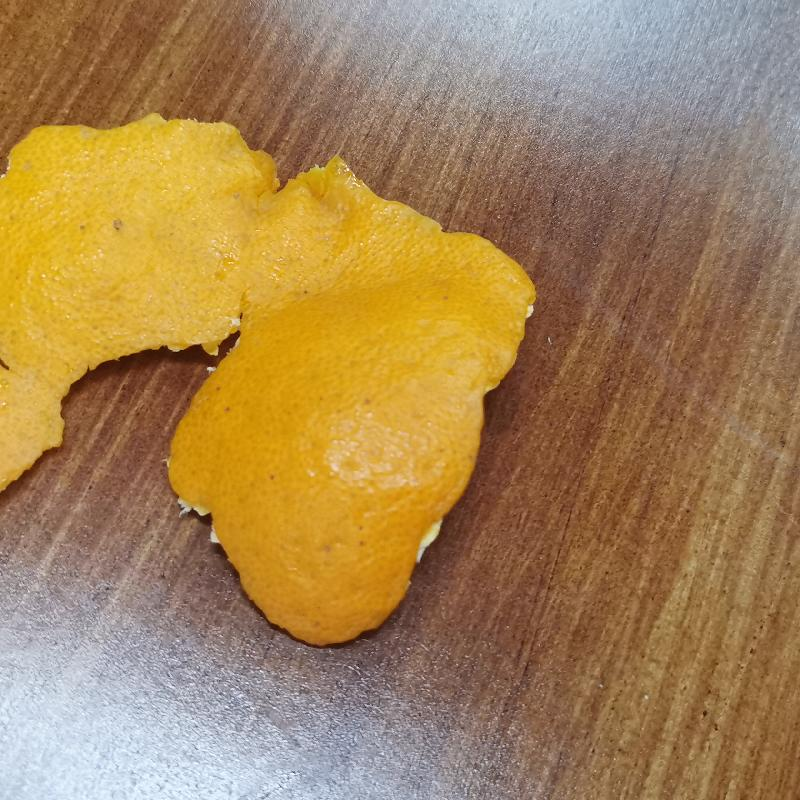orange: (3, 111, 537, 649)
